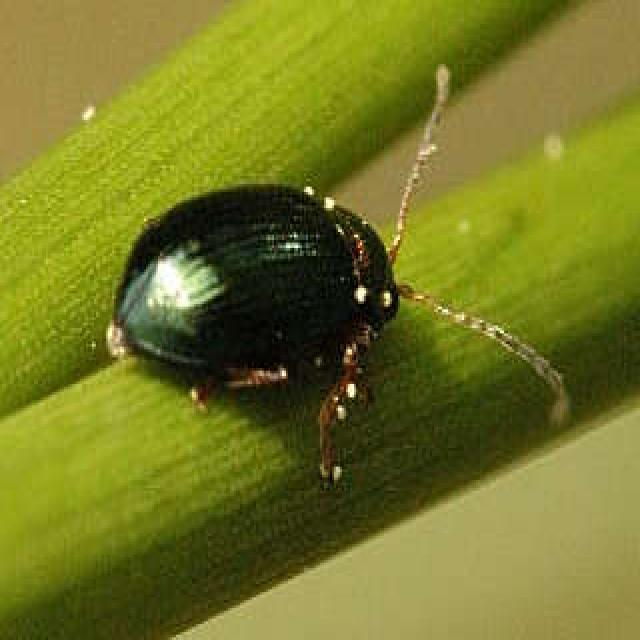flea_beetle: (102, 47, 572, 484)
